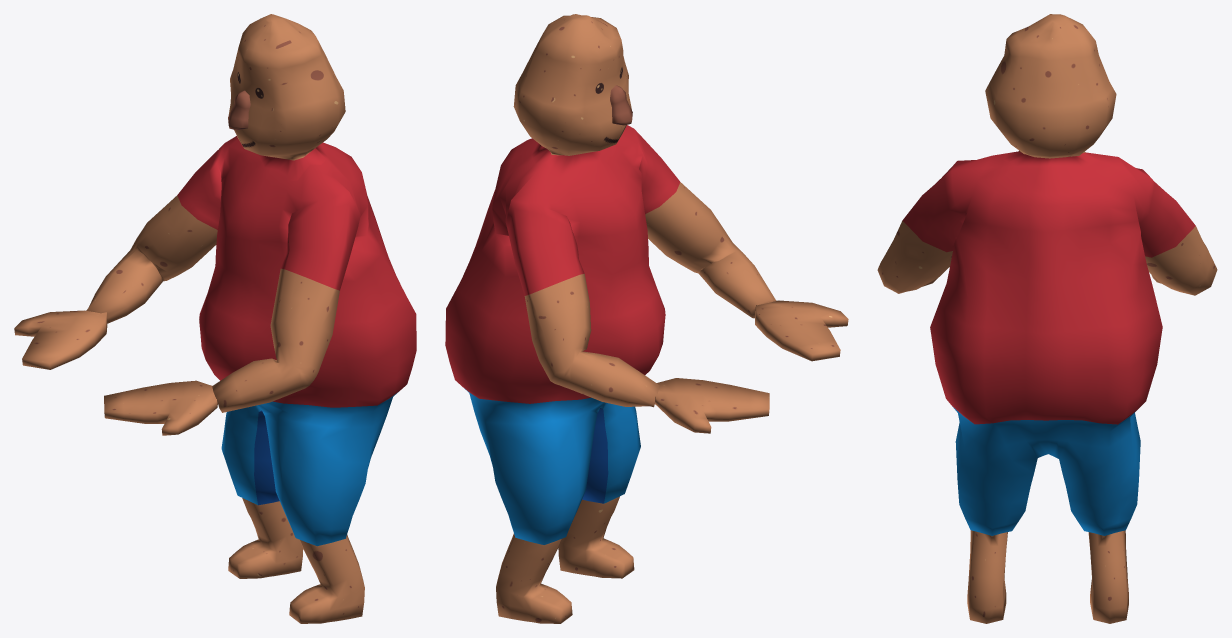
File: client_separatedFace.fbx
The picture shows the model from 3 angles, left to right: view 1: azimuth 30°, elevation 25°; view 2: azimuth 150°, elevation 25°; view 3: azimuth 270°, elevation 25°; orthographic projection.
Parts seen in each view (by area): view 1: f_client; view 2: f_client; view 3: f_client.
Boxes of the visible parts, x1=… form: f_client: x1=14, y1=14, x2=416, y2=623; f_client: x1=445, y1=14, x2=848, y2=623; f_client: x1=877, y1=14, x2=1217, y2=623.
Bounding box in the file's own units: 107 × 122 × 203.
